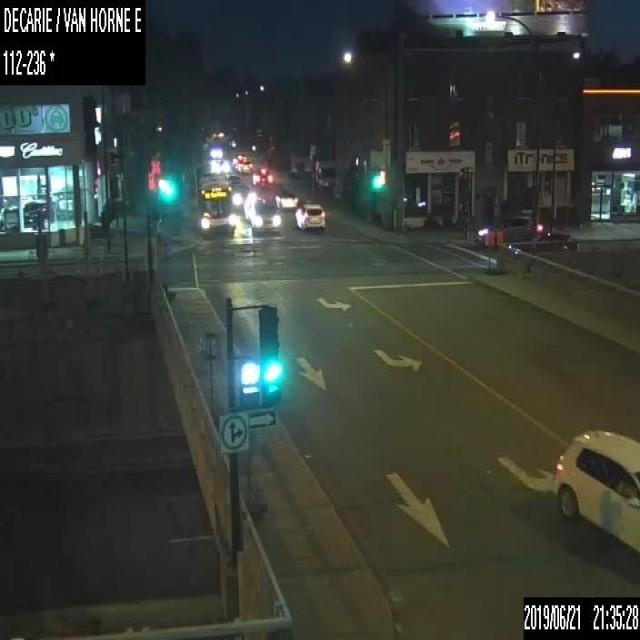bus: (198, 174, 235, 234)
construction: (244, 427, 266, 518), (201, 332, 219, 427), (494, 231, 504, 274), (485, 232, 493, 274)
vehicle: (551, 427, 639, 552), (473, 212, 536, 245), (506, 233, 578, 259), (250, 198, 282, 235), (295, 203, 325, 231), (229, 183, 252, 210), (274, 190, 298, 209), (248, 167, 272, 186), (237, 157, 253, 173)
